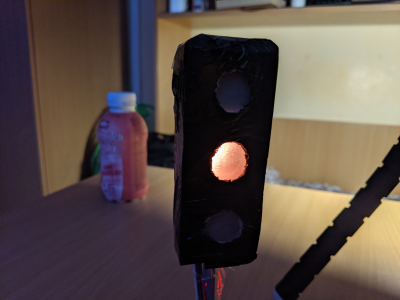trafficlight_red: (187, 41, 262, 265)
